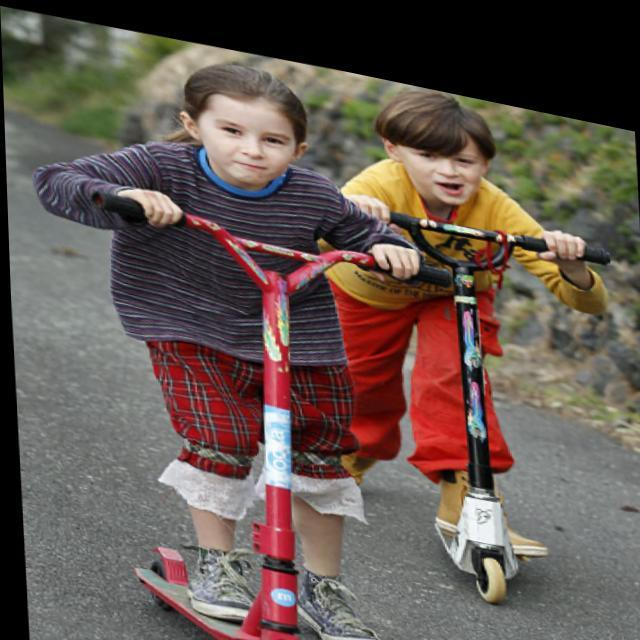Nonhelmet: (169, 51, 317, 212), (366, 83, 501, 222)
